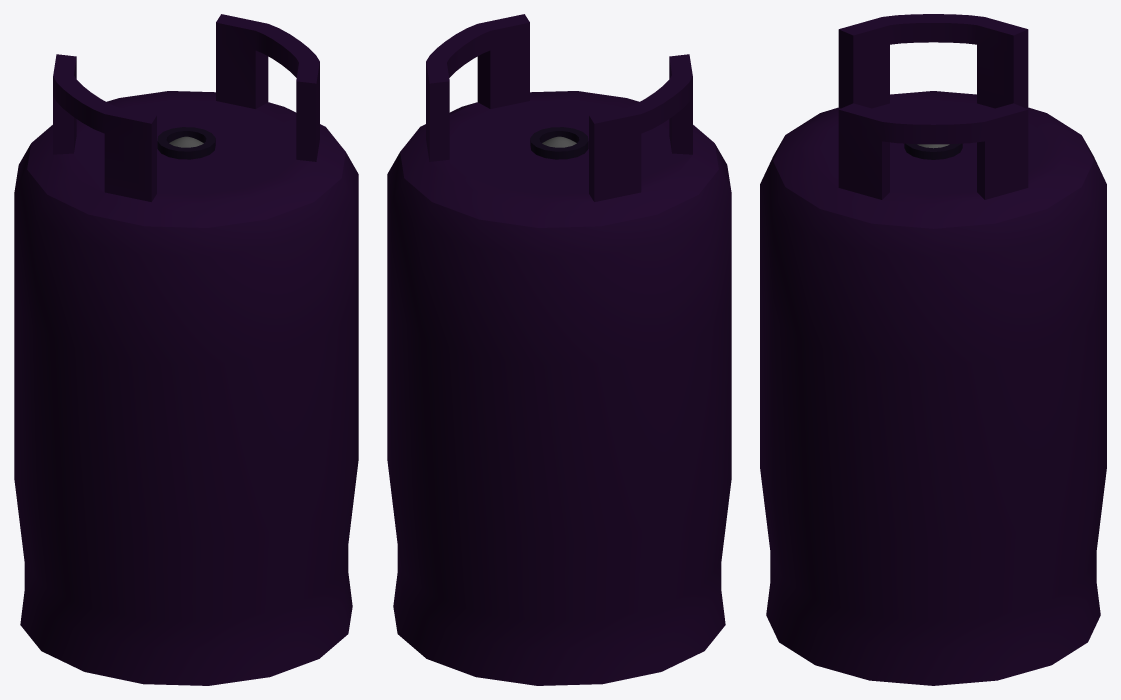
File: gas18.glb
3 views of the same model, side by side, from view 1: azimuth 30°, elevation 25°; view 2: azimuth 150°, elevation 25°; view 3: azimuth 270°, elevation 25° (orthographic).
Parts seen in each view (by area): view 1: Gas18; view 2: Gas18; view 3: Gas18.
Boxes of the visible parts, <box> form: Gas18: <box>14,14,358,685</box>; Gas18: <box>387,14,731,685</box>; Gas18: <box>760,14,1106,685</box>.
Size of the model in its own units: 1.94 by 3.38 by 1.94.
